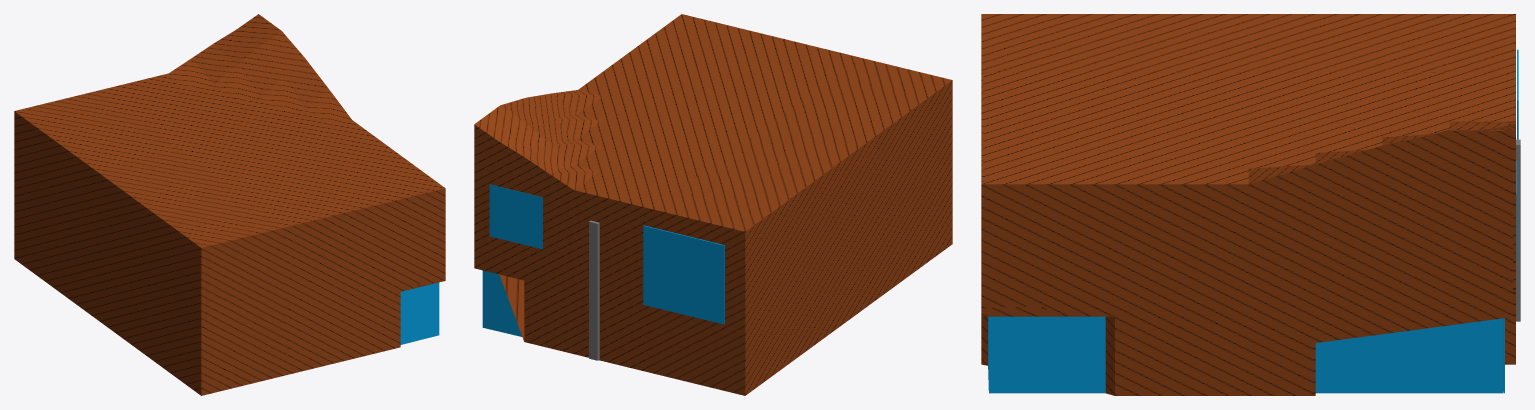
File: Investa.fbx
3 renders of one model, left to right at view 1: azimuth 30°, elevation 25°; view 2: azimuth 150°, elevation 25°; view 3: azimuth 270°, elevation 25°, orthographic. The views are drawn at different scales.
Parts seen in each view (by area): view 1: Cube, Cube.002; view 2: Cube, Cube.005, Cube.006, Cube.004, Cube.007; view 3: Cube, Cube.001, Cube.003, Cube.007.
Part boxes in pixels (x1,y1,x2,y2): Cube: [14, 14, 445, 395]; Cube.002: [400, 282, 439, 344]; Cube: [474, 14, 952, 395]; Cube.005: [643, 225, 724, 324]; Cube.006: [489, 184, 542, 249]; Cube.004: [482, 270, 522, 336]; Cube.007: [589, 220, 599, 360]; Cube: [981, 14, 1515, 395]; Cube.001: [1315, 318, 1503, 393]; Cube.003: [990, 316, 1105, 393]; Cube.007: [1516, 139, 1520, 321].
Size of the model in its own units: 796 by 577 by 1064.
Materials: 3 (1 with a texture image).
